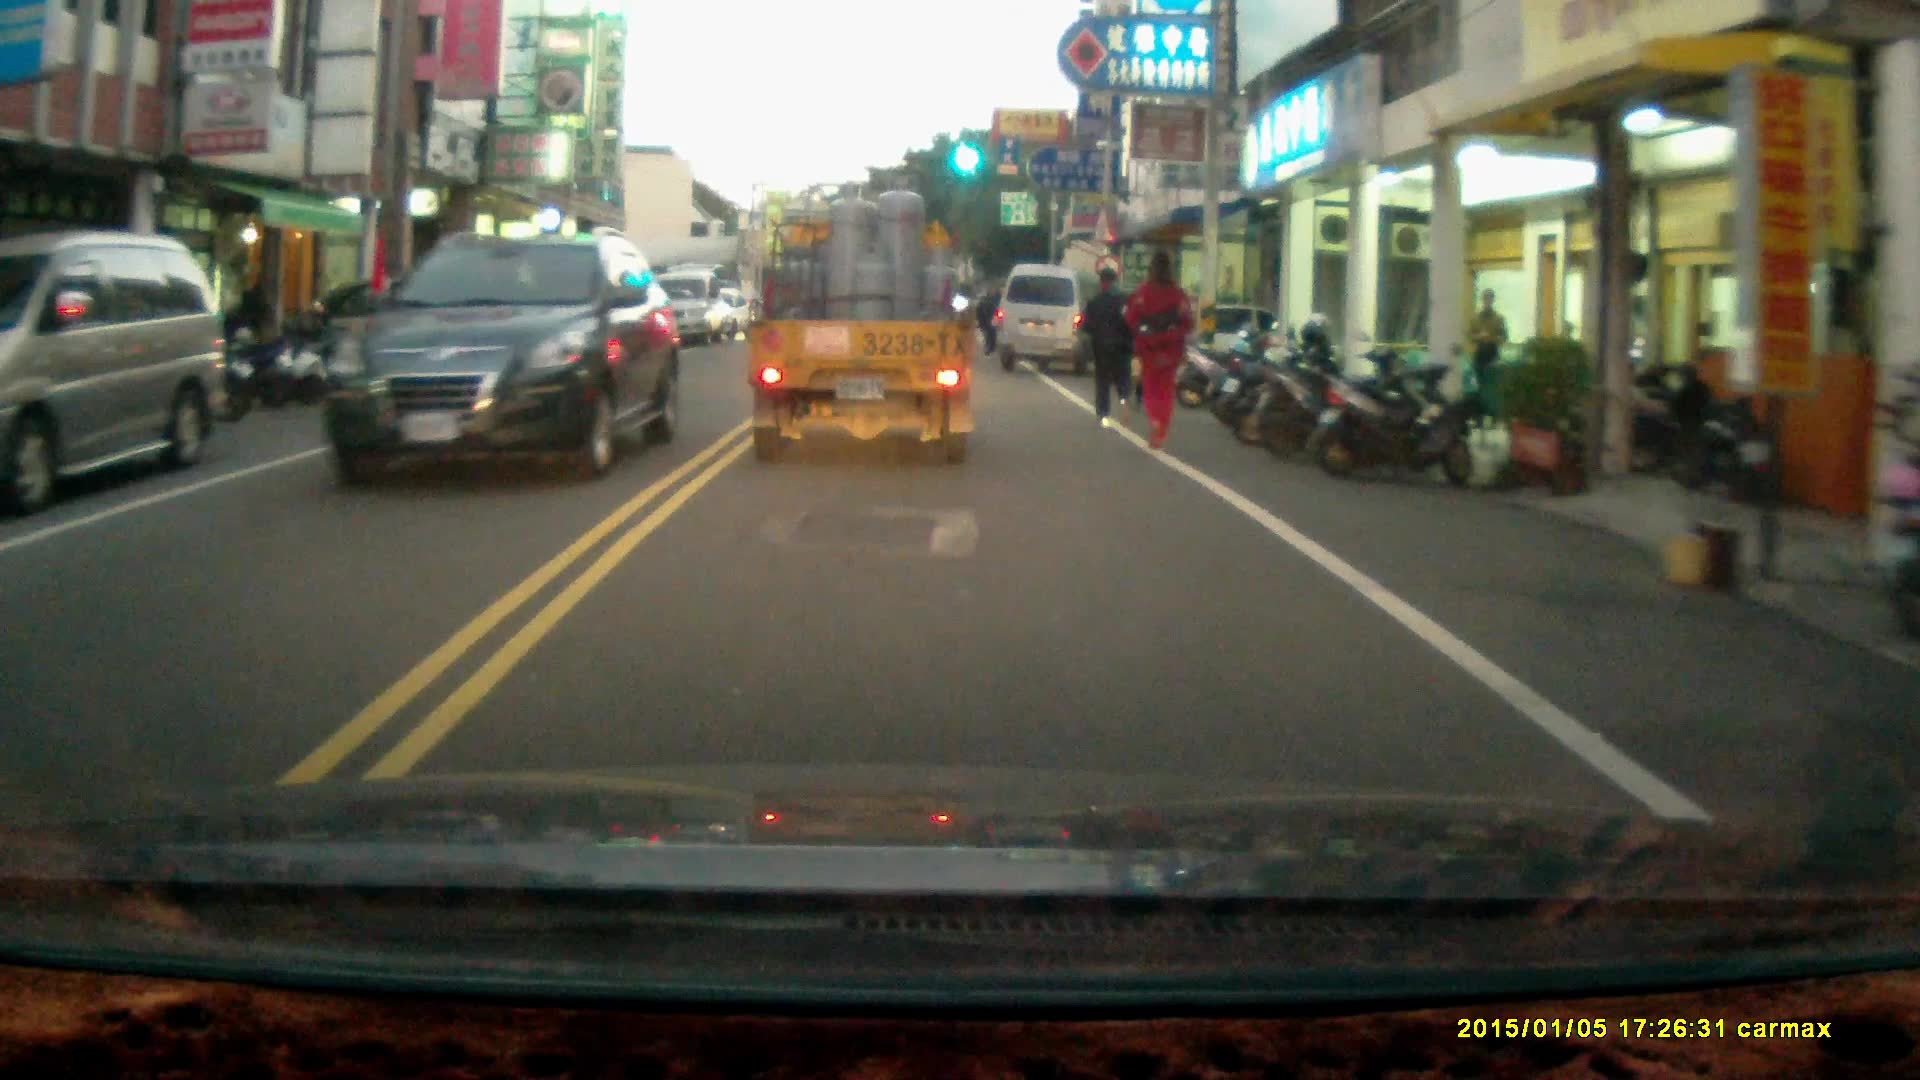pedestrian: (1130, 248, 1195, 453), (1080, 264, 1140, 433), (1462, 288, 1507, 416)
vehicle: (321, 227, 681, 486), (742, 173, 984, 474), (1, 235, 242, 498), (282, 289, 529, 387), (998, 266, 1113, 378)
